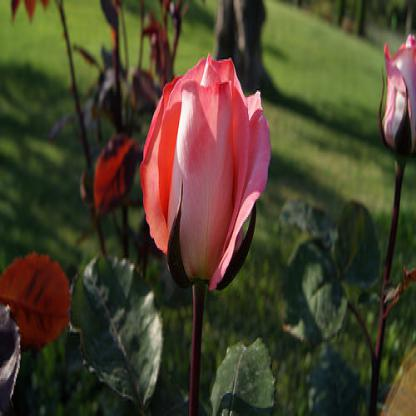ROSE-MAWAR: (124, 9, 281, 310)
